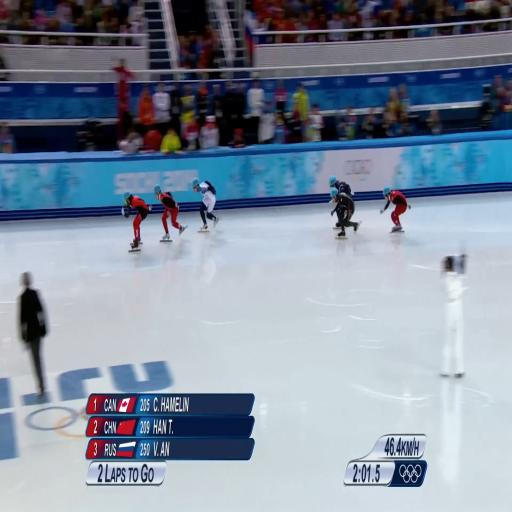Skater: (154, 184, 187, 242), (123, 192, 151, 251), (331, 188, 360, 238), (380, 187, 410, 232), (193, 179, 218, 232), (329, 175, 353, 201)
